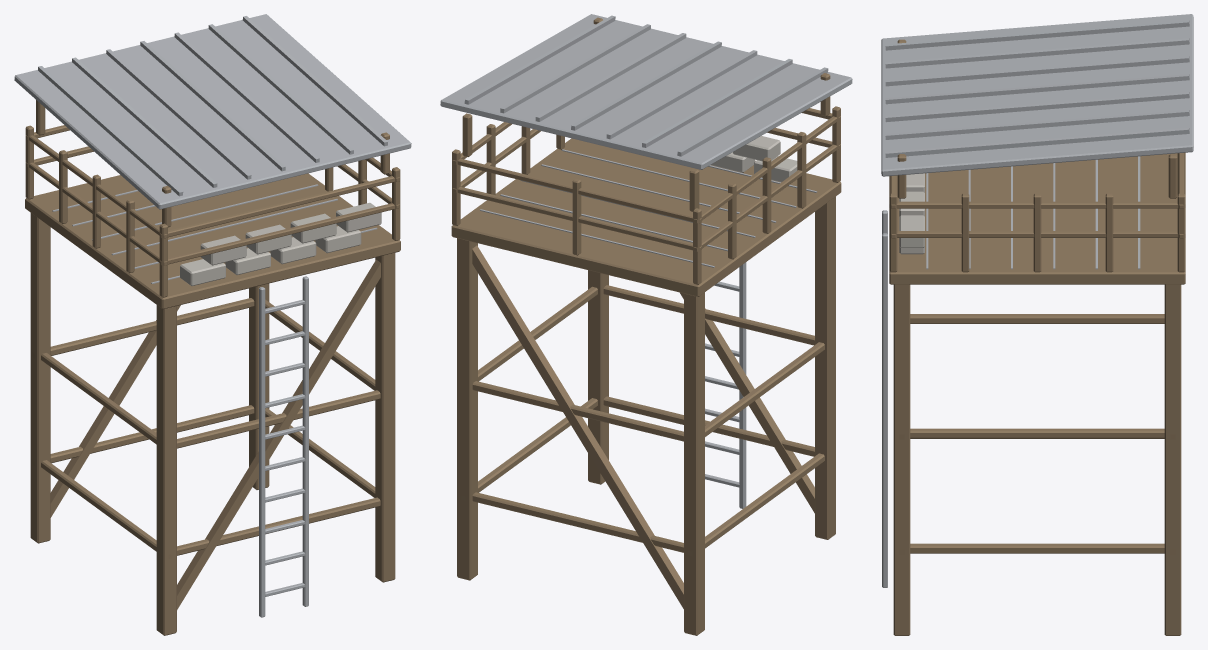
The model's file is tower.glb.
3 renders of one model, left to right at view 1: azimuth 30°, elevation 25°; view 2: azimuth 150°, elevation 25°; view 3: azimuth 270°, elevation 25°, orthographic. The views are drawn at different scales.
Parts seen in each view (by area): view 1: tower; view 2: tower; view 3: tower.
Part boxes in pixels (x1,y1,x2,y2): tower: (14, 14, 411, 635); tower: (440, 14, 852, 635); tower: (881, 14, 1193, 635).
Size of the model in its own units: 3.7 by 6.52 by 3.69.
